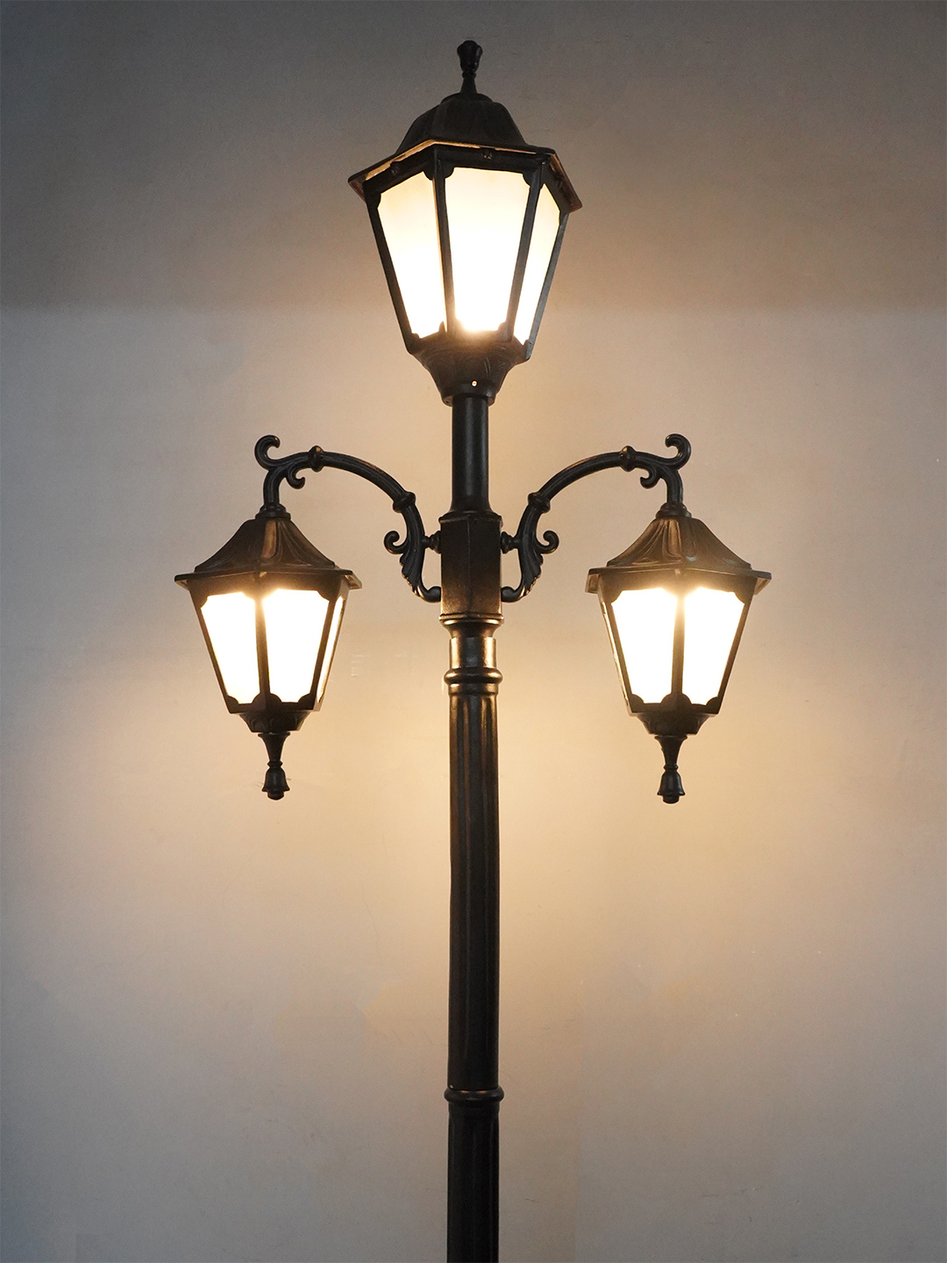Lamp: (168, 45, 754, 1263)
